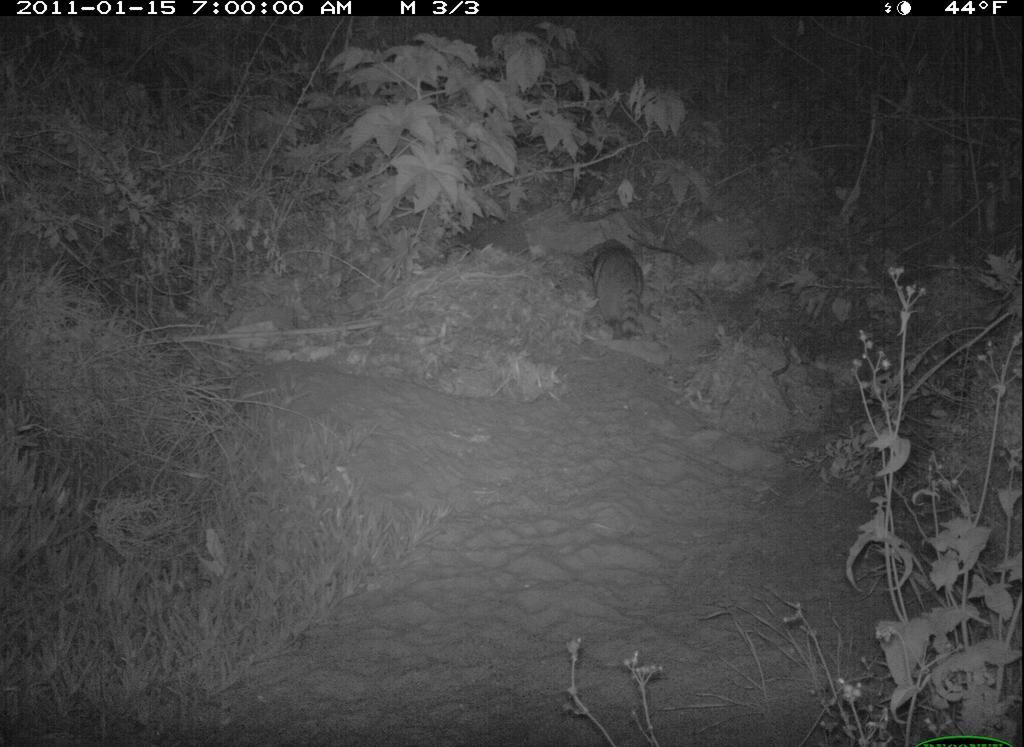raccoon: (574, 221, 657, 346)
